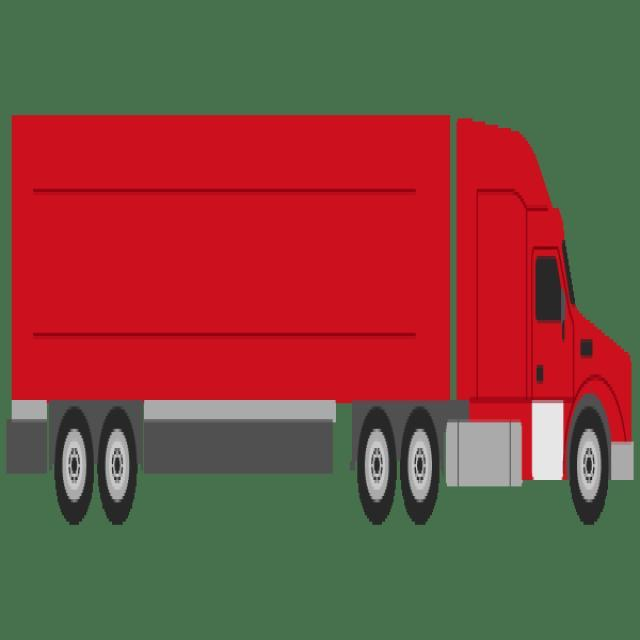traffic light: (5, 109, 635, 528)
